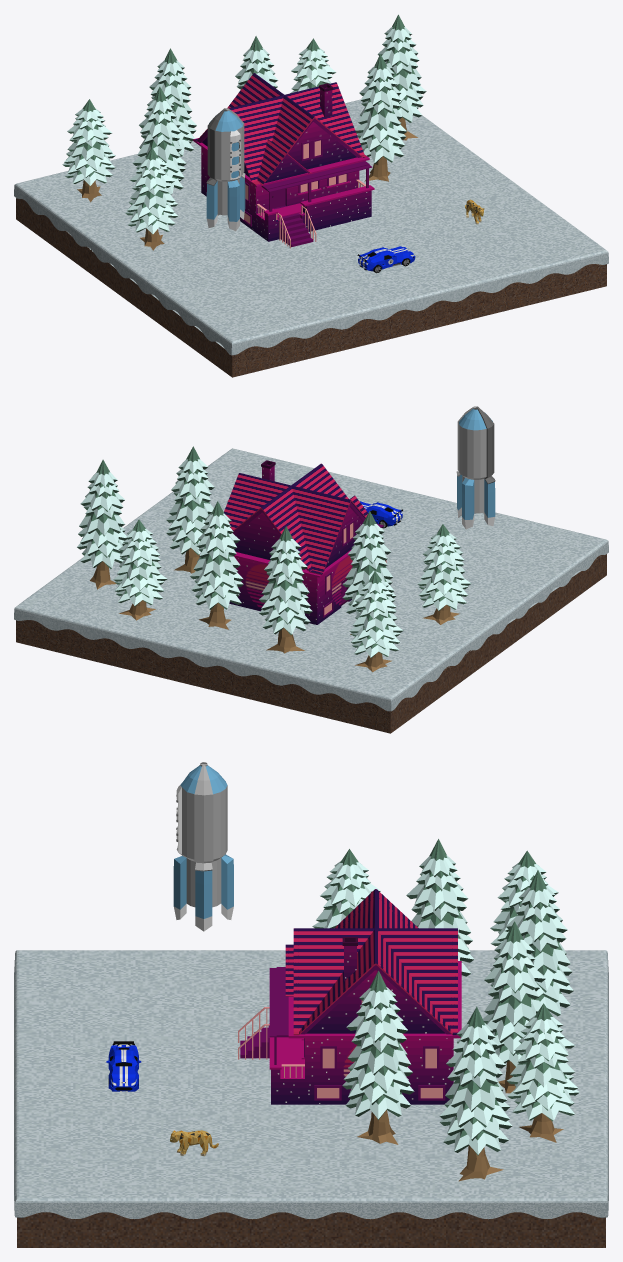
The picture shows the model from 3 angles, top to bottom: view 1: azimuth 30°, elevation 25°; view 2: azimuth 150°, elevation 25°; view 3: azimuth 270°, elevation 25°; orthographic projection. The views are drawn at different scales.
Parts seen in each view (by area): view 1: Cube.003, Cube.156, OBJRANDOM_ROCKETSHIP, VEHICLES_RACING_CAR; view 2: Cube.003, Cube.156, OBJRANDOM_ROCKETSHIP, VEHICLES_RACING_CAR; view 3: Cube.003, Cube.156, OBJRANDOM_ROCKETSHIP, VEHICLES_RACING_CAR, ANIMAL_JAGUAR.
Part boxes in pixels (x1,y1,x2,y2): Cube.003: (14, 14, 608, 377); Cube.156: (193, 73, 374, 248); OBJRANDOM_ROCKETSHIP: (206, 108, 245, 231); VEHICLES_RACING_CAR: (357, 246, 415, 273); Cube.003: (14, 446, 608, 733); Cube.156: (224, 460, 386, 624); OBJRANDOM_ROCKETSHIP: (456, 406, 495, 529); VEHICLES_RACING_CAR: (360, 501, 402, 528); Cube.003: (14, 839, 608, 1247); Cube.156: (238, 889, 461, 1104); OBJRANDOM_ROCKETSHIP: (173, 762, 233, 931); VEHICLES_RACING_CAR: (106, 1041, 141, 1091); ANIMAL_JAGUAR: (170, 1130, 218, 1156).
Bounding box in the file's own units: 4040 × 2151 × 4040.
Materials: 35 (5 with a texture image).
